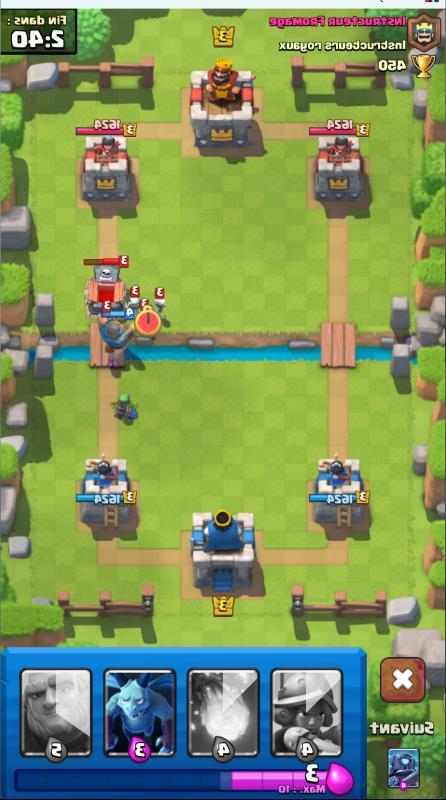enemy_skeletons: (150, 288, 171, 320), (125, 286, 147, 316)
enemy_tombstone: (79, 253, 132, 314)
player_knight: (93, 308, 144, 355)
player_spear_goblins: (107, 384, 147, 428)
